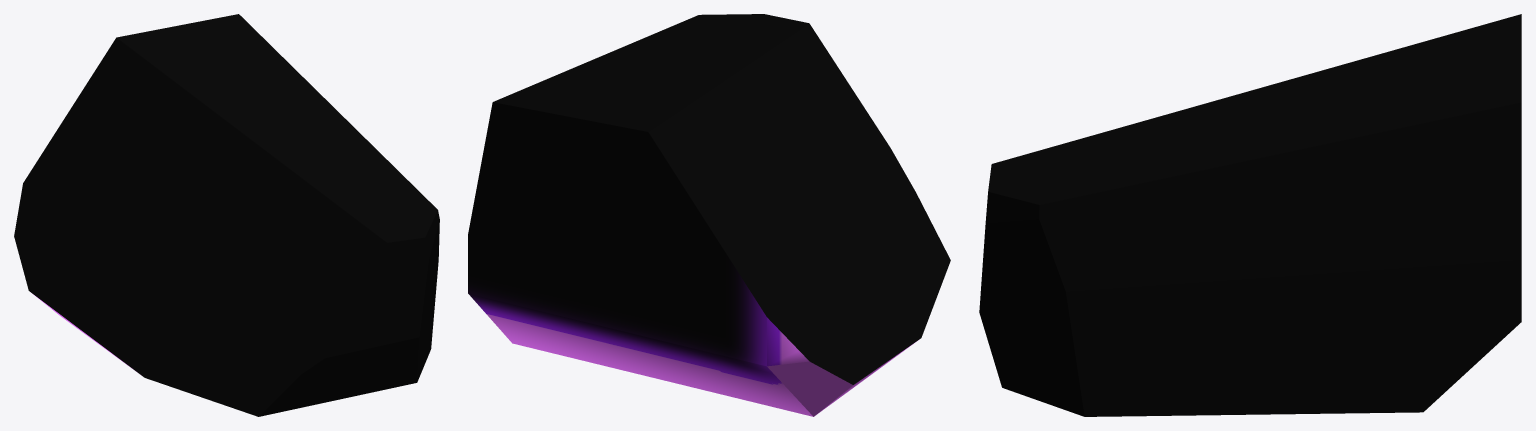
The model's file is blockParticle_10.obj.
3 renders of one model, left to right at view 1: azimuth 30°, elevation 25°; view 2: azimuth 150°, elevation 25°; view 3: azimuth 270°, elevation 25°, orthographic. The views are drawn at different scales.
Visible parts, largest first — view 1: 立方体_cell.011; view 2: 立方体_cell.011; view 3: 立方体_cell.011.
Boxes of the visible parts, box(x1,y1,x2,y2) form: 立方体_cell.011: box(14, 14, 439, 416); 立方体_cell.011: box(468, 14, 950, 416); 立方体_cell.011: box(979, 14, 1521, 416).
Bounding box in the file's own units: 0.9162 × 0.7253 × 1.17.
2 materials, 2 textured.
